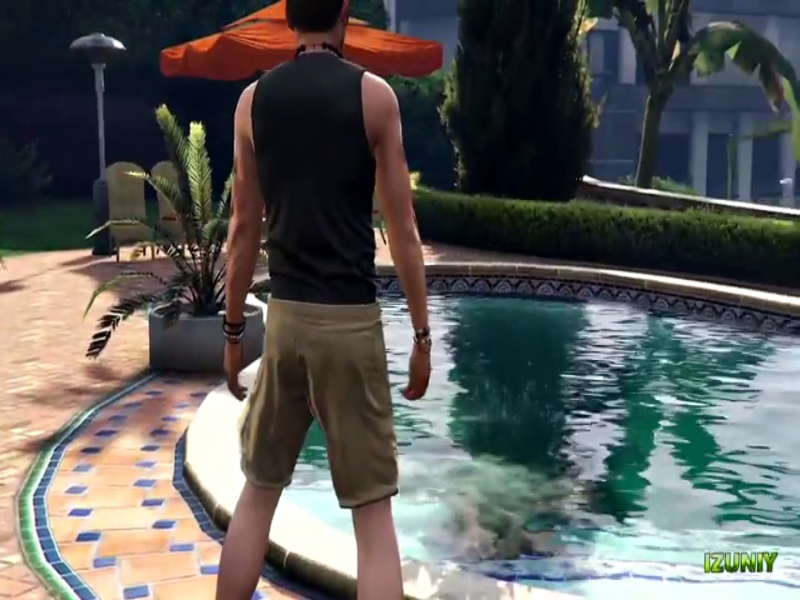human: (207, 3, 428, 593)
